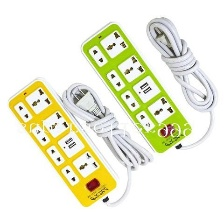three_eye_plug: (72, 18, 194, 159), (4, 76, 119, 211)
